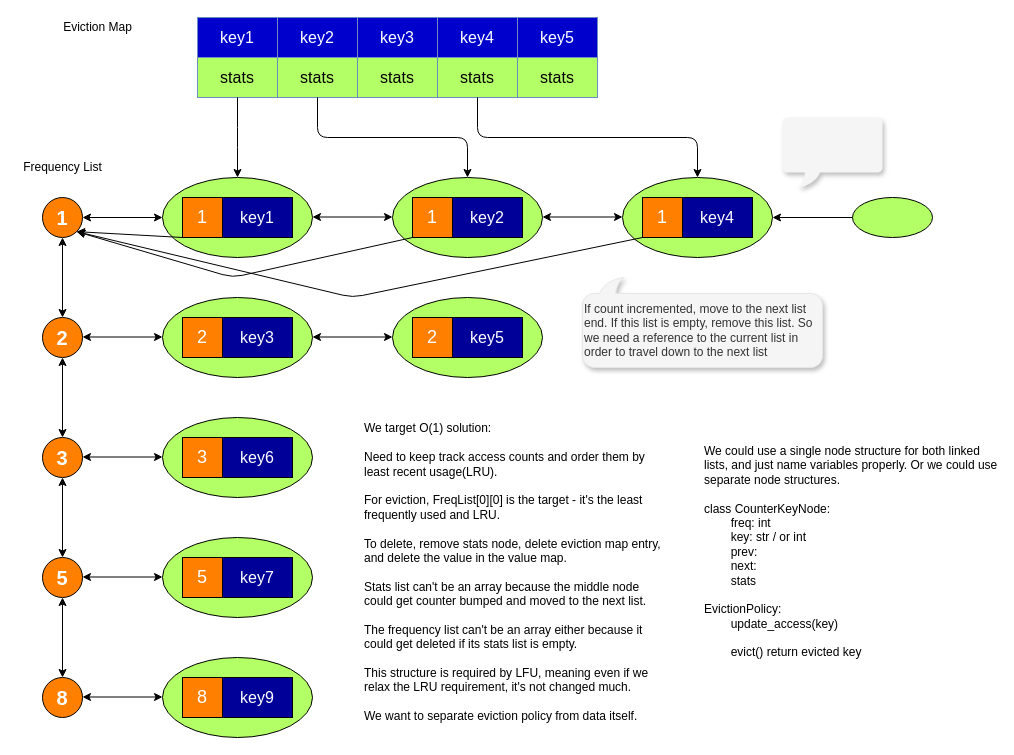
Some shapes in this 1014 by 755 pixel diagram are drawn without their labels. The centre of each missing label's shape, as x and y in pixels:
Add new entry at the tail, so that head is LRU: [833,153]
Tail: [892,217]
